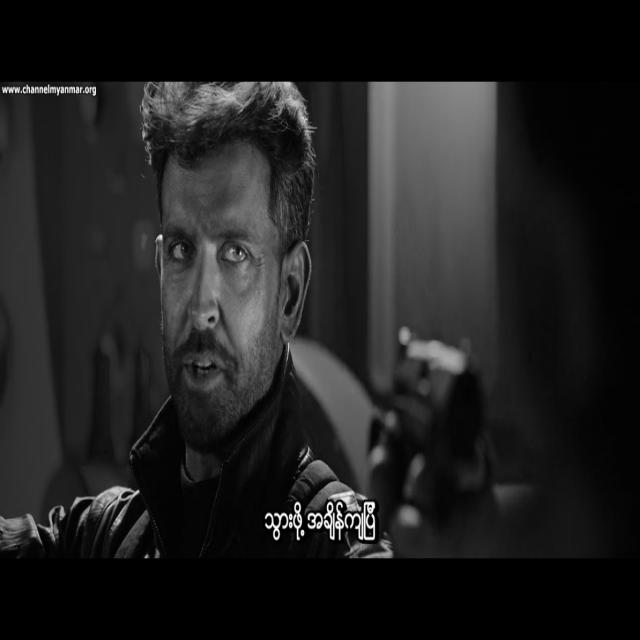gun: (393, 332, 482, 509)
